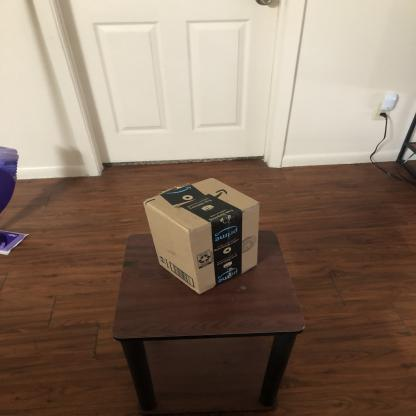package: (140, 177, 262, 296)
